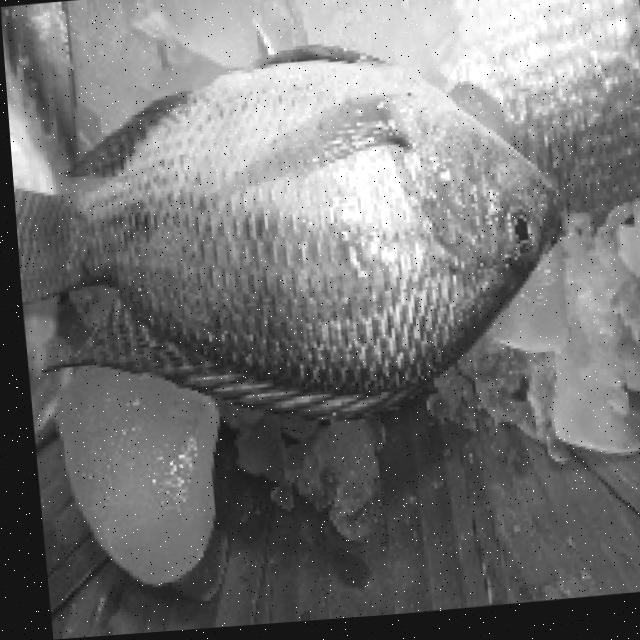Fresh: (3, 13, 588, 432)
